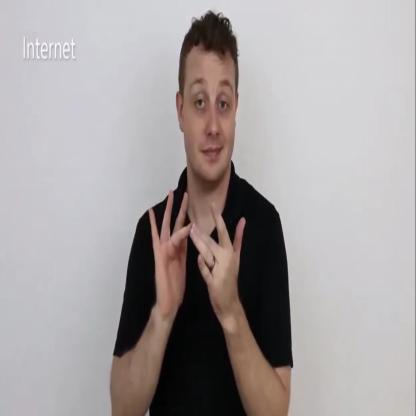Internet: (110, 23, 294, 416)
